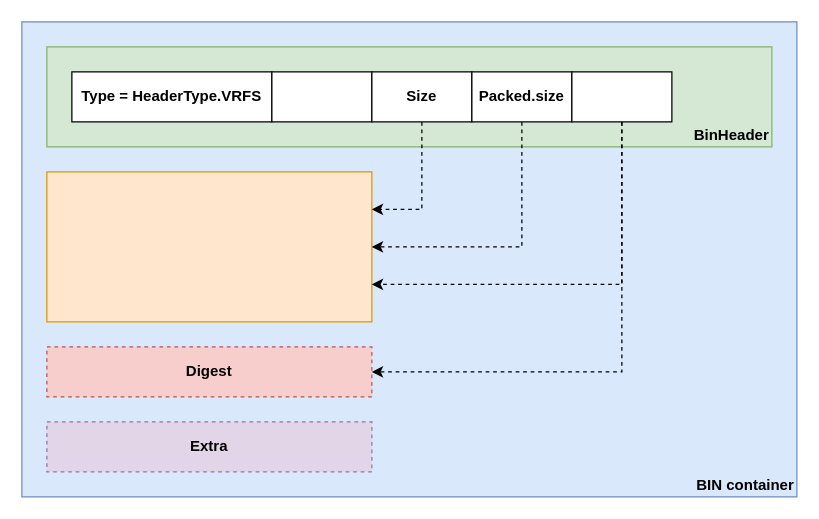
This 819x519 diagram has some shape labels left out. The shapes that lost their labels are listed below. From the top down, each one's box as (x1, y1, x2, y2) in pixels, then its label:
(271, 71, 372, 122): Platform
(571, 71, 672, 122): Packed.type
(46, 171, 372, 322): Data
